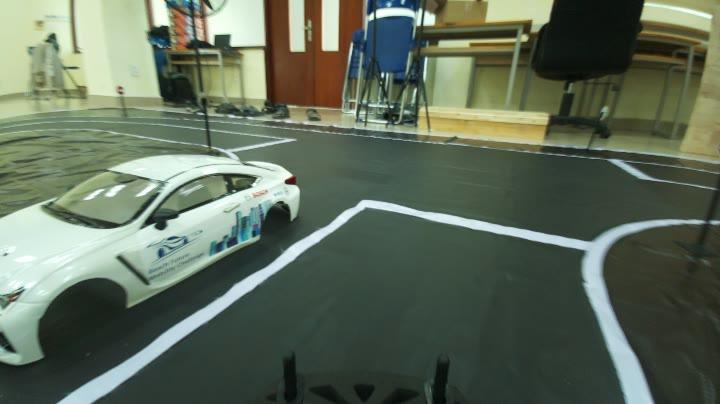car: (0, 156, 324, 359)
